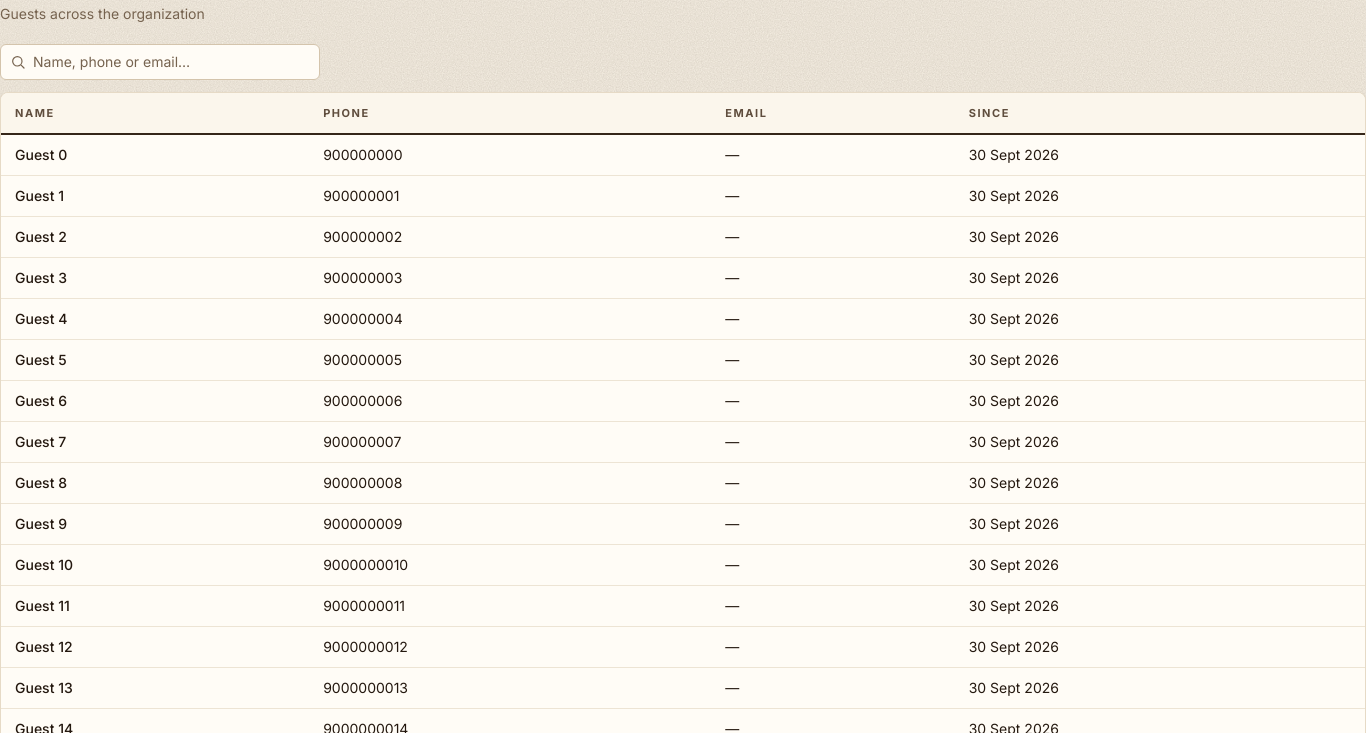
Test: CRM › searches on the server and pages a bare-array endpoint by the last id
The image size is (1366, 733).
Expected: the text "Guest 0" is shown, [15,146,67,163]
Type "Meera" into the search field at [160, 62], box [0,44,320,80]
(page scrolled)
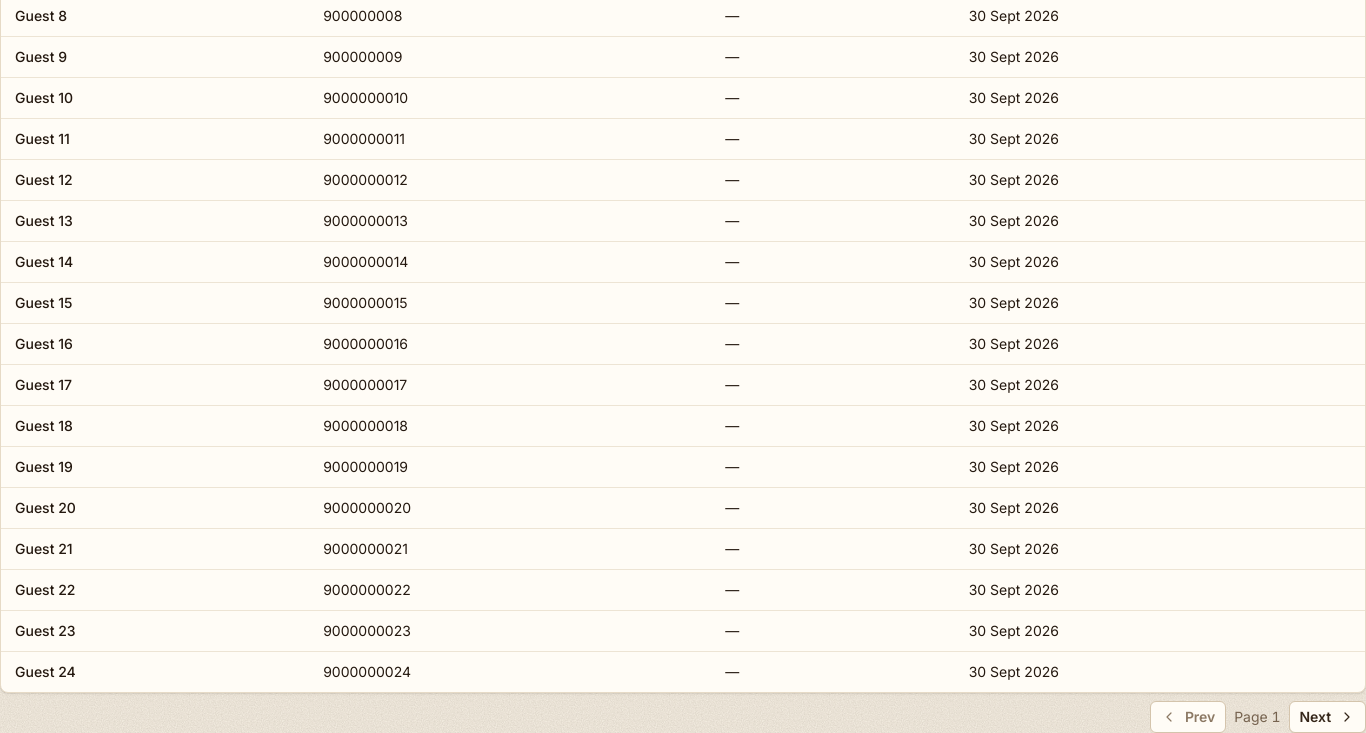
Click the button with aria-label "Next page" at [1327, 717], box [1288,701,1365,732]
(page scrolled)
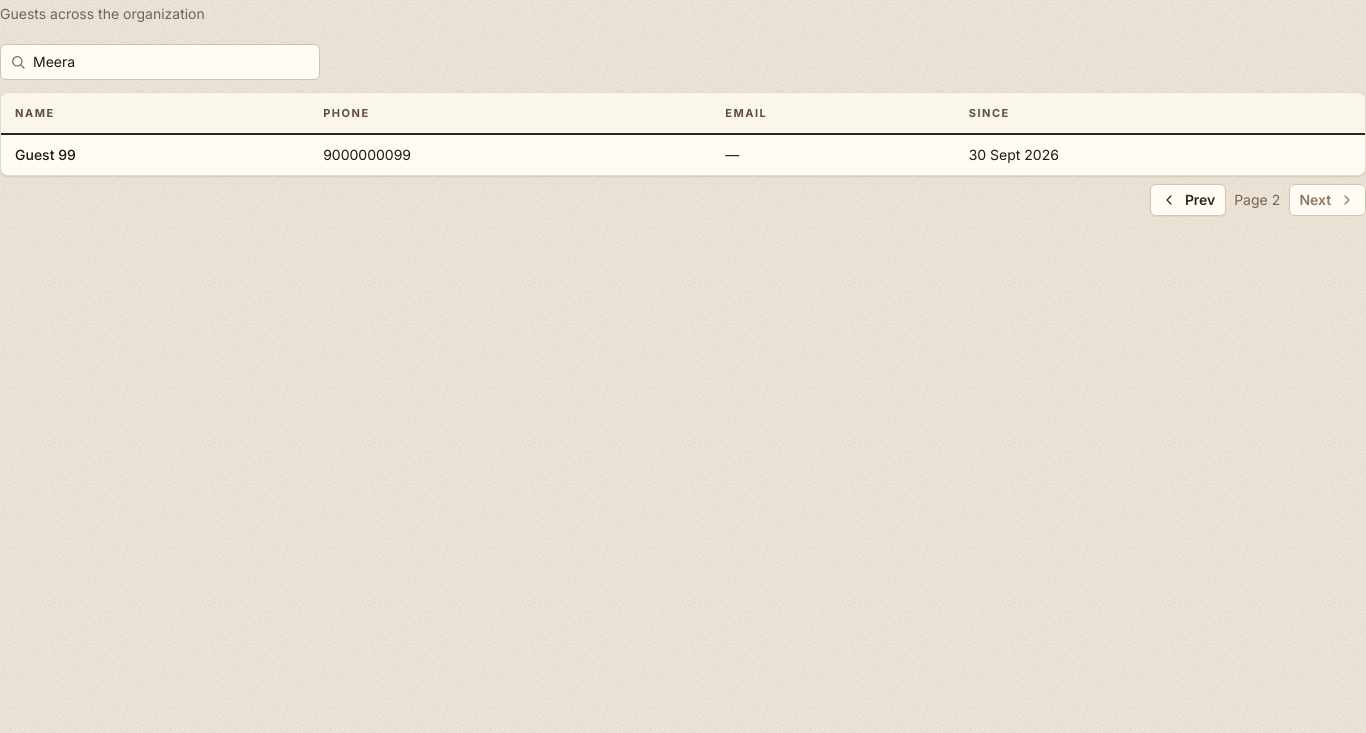
Result: the text "Guest 99" is shown at [15,146,76,163]
